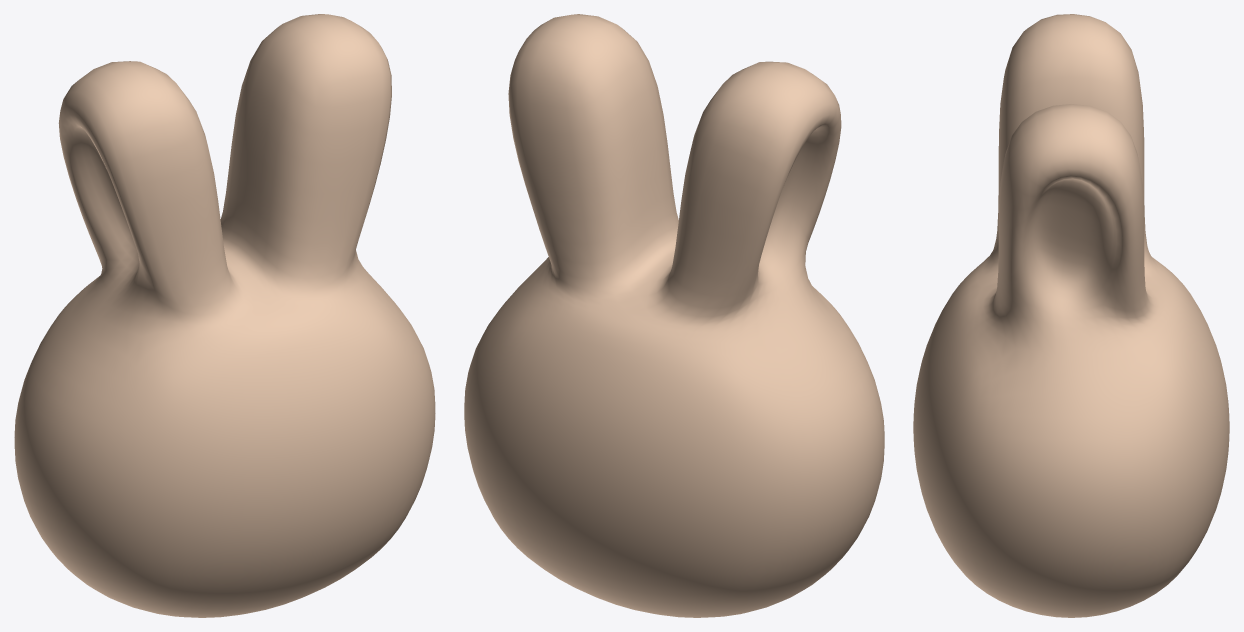
Rendered from momonga_Head.fbx.
3 views of the same model, side by side, from view 1: azimuth 30°, elevation 25°; view 2: azimuth 150°, elevation 25°; view 3: azimuth 270°, elevation 25° (orthographic). The views are drawn at different scales.
Parts seen in each view (by area): view 1: Cube; view 2: Cube; view 3: Cube.
Part boxes in pixels (x1=…): Cube: x1=14, y1=14, x2=435, y2=617; Cube: x1=464, y1=14, x2=884, y2=617; Cube: x1=913, y1=14, x2=1229, y2=617.
Size of the model in its own units: 55.2 by 76.68 by 41.7.
